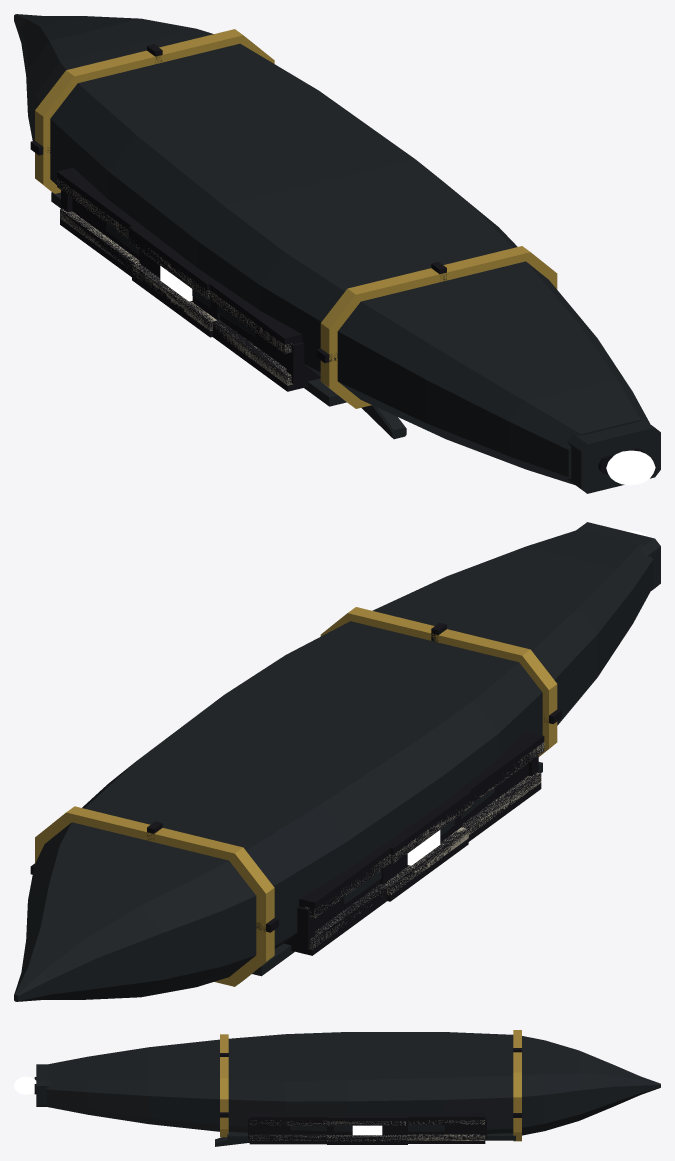
3 renders of one model, top to bottom at view 1: azimuth 30°, elevation 25°; view 2: azimuth 150°, elevation 25°; view 3: azimuth 270°, elevation 25°, orthographic. The views are drawn at different scales.
Visible parts, largest first — view 1: RIMWARD_HULL, RIMWARD_ENGINE_GLOW; view 2: RIMWARD_HULL; view 3: RIMWARD_HULL, RIMWARD_EMISSIVE, RIMWARD_ENGINE_GLOW.
Boxes of the visible parts, x1,y1,x2,y2 form: RIMWARD_HULL: [14, 14, 660, 493]; RIMWARD_ENGINE_GLOW: [606, 450, 655, 485]; RIMWARD_HULL: [14, 522, 660, 1001]; RIMWARD_HULL: [34, 1030, 660, 1146]; RIMWARD_EMISSIVE: [352, 1125, 382, 1135]; RIMWARD_ENGINE_GLOW: [14, 1076, 36, 1094].
Bounding box in the file's own units: 1.8 × 1.06 × 7.39.
